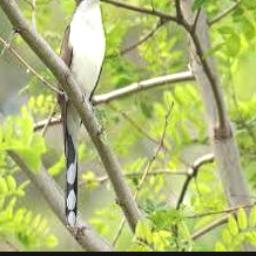Cuckoo: (58, 0, 108, 227)
